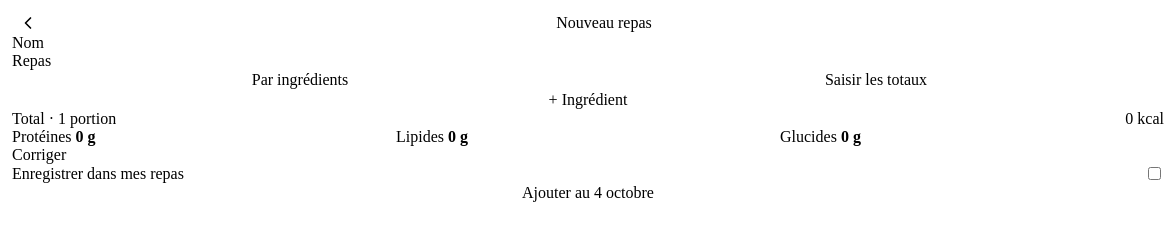
it: MealEditorPage (Nouveau repas) › starts a new meal not saved to Mes repas nor favourite, with no time field
Expected: the button "Ajouter au 4 octobre" is shown, [12, 183, 1164, 203]
Click the checkbox labelled "Enregistrer dans mes repas". click: point(1154, 174)
box: [1148, 167, 1161, 180]
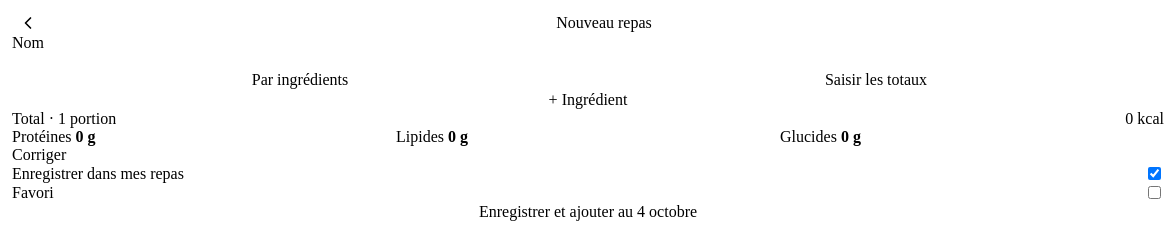
Result: the checkbox labelled "Favori" is not checked at [1148, 186, 1161, 199]
Result: the button "Enregistrer et ajouter au 4 octobre" is shown at [12, 202, 1164, 222]
